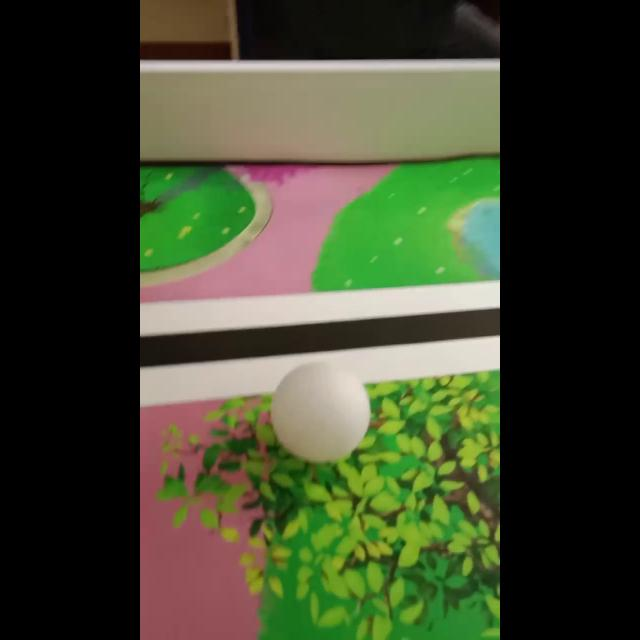white ball: (269, 360, 371, 464)
